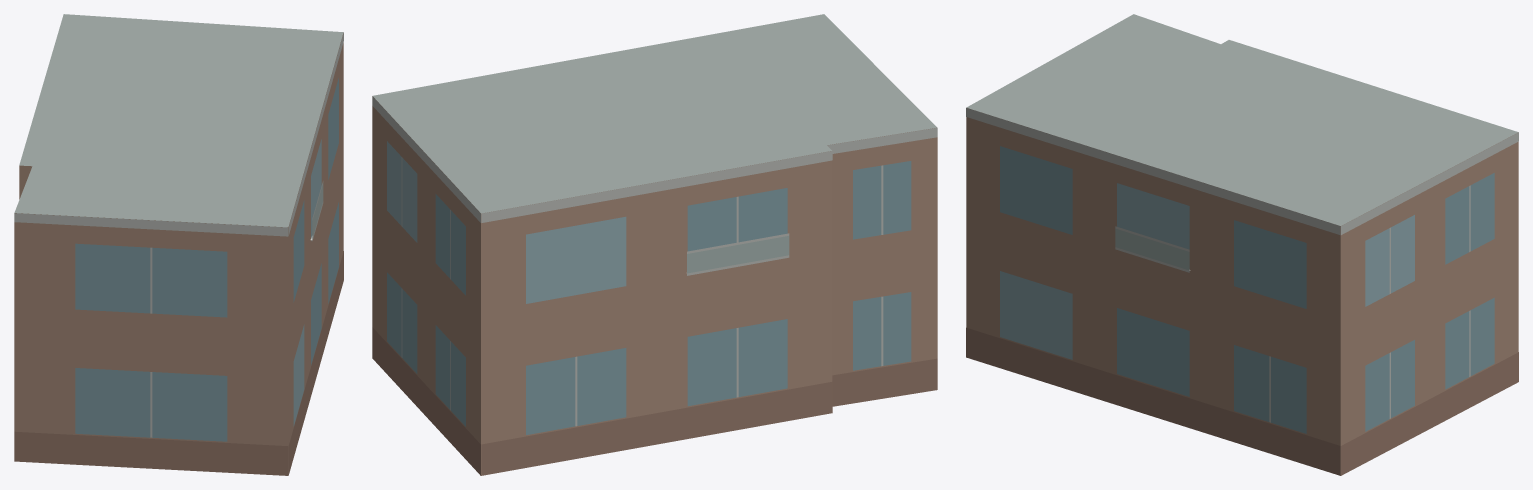
The model's file is survey-upis-33023593.glb.
3 views of the same model, side by side, from view 1: azimuth 30°, elevation 25°; view 2: azimuth 150°, elevation 25°; view 3: azimuth 270°, elevation 25° (orthographic). The views are drawn at different scales.
Parts seen in each view (by area): view 1: survey-upis-33023593.tmp; view 2: survey-upis-33023593.tmp; view 3: survey-upis-33023593.tmp.
Boxes of the visible parts, bbox=[...] form: survey-upis-33023593.tmp: bbox=[14, 14, 343, 475]; survey-upis-33023593.tmp: bbox=[372, 14, 937, 475]; survey-upis-33023593.tmp: bbox=[966, 14, 1518, 475].
Bounding box in the file's own units: 12.03 × 6.6 × 13.24.
